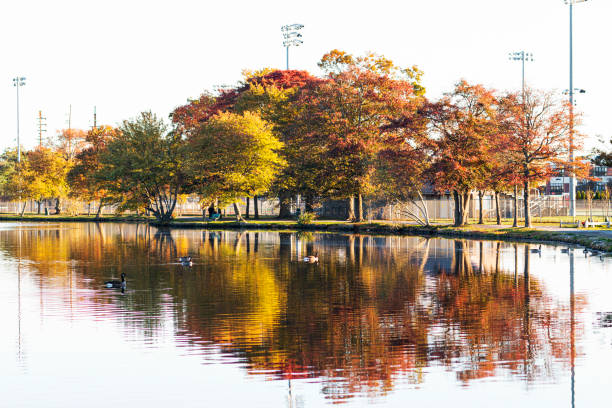goose: (101, 271, 128, 291), (300, 248, 321, 262), (528, 242, 544, 253), (555, 244, 572, 253)
